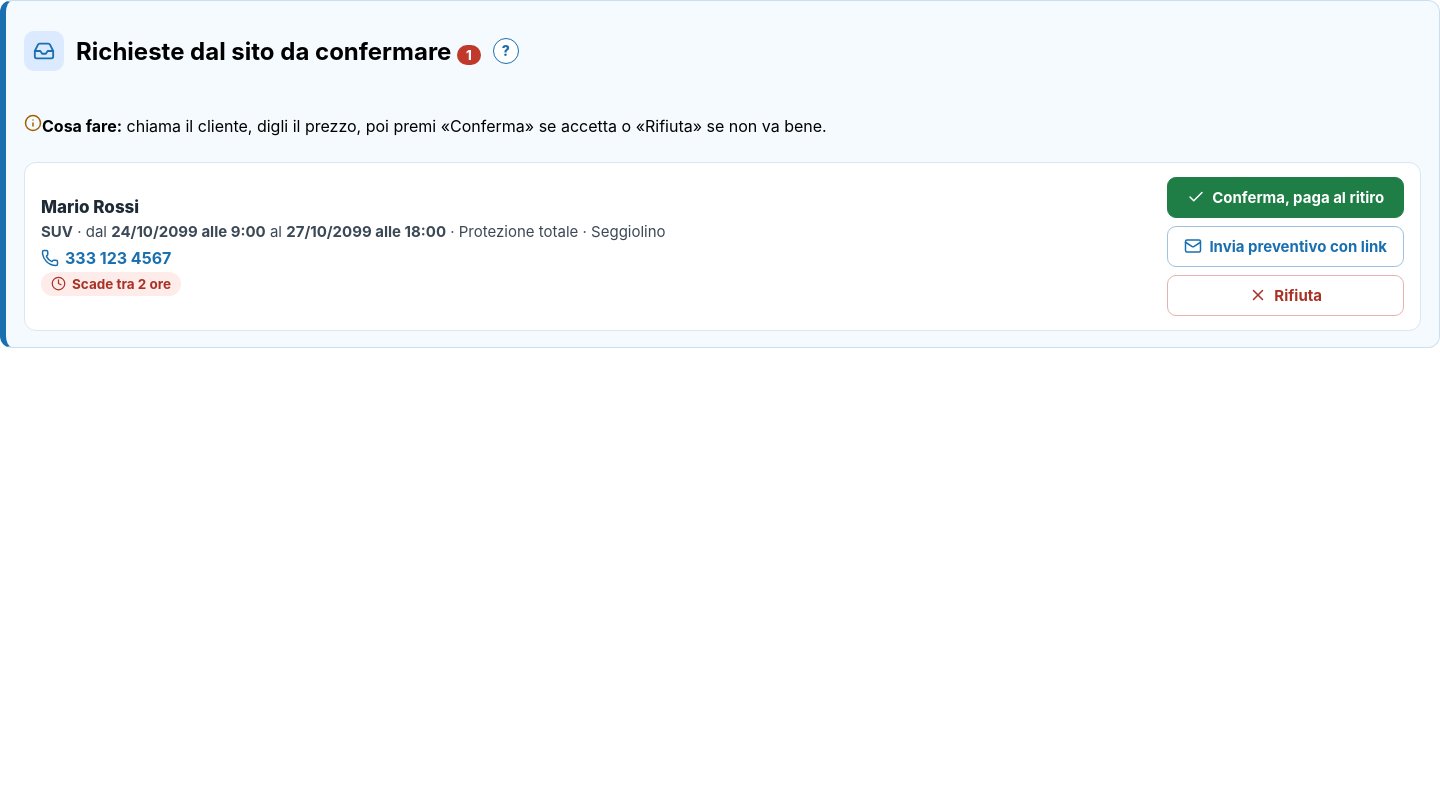
Test: senza un prezzo valido non conferma
The width and height of the screenshot is (1440, 810).
Click the button "Conferma, paga al ritiro".
click(1286, 197)  # box [1167,177,1404,218]
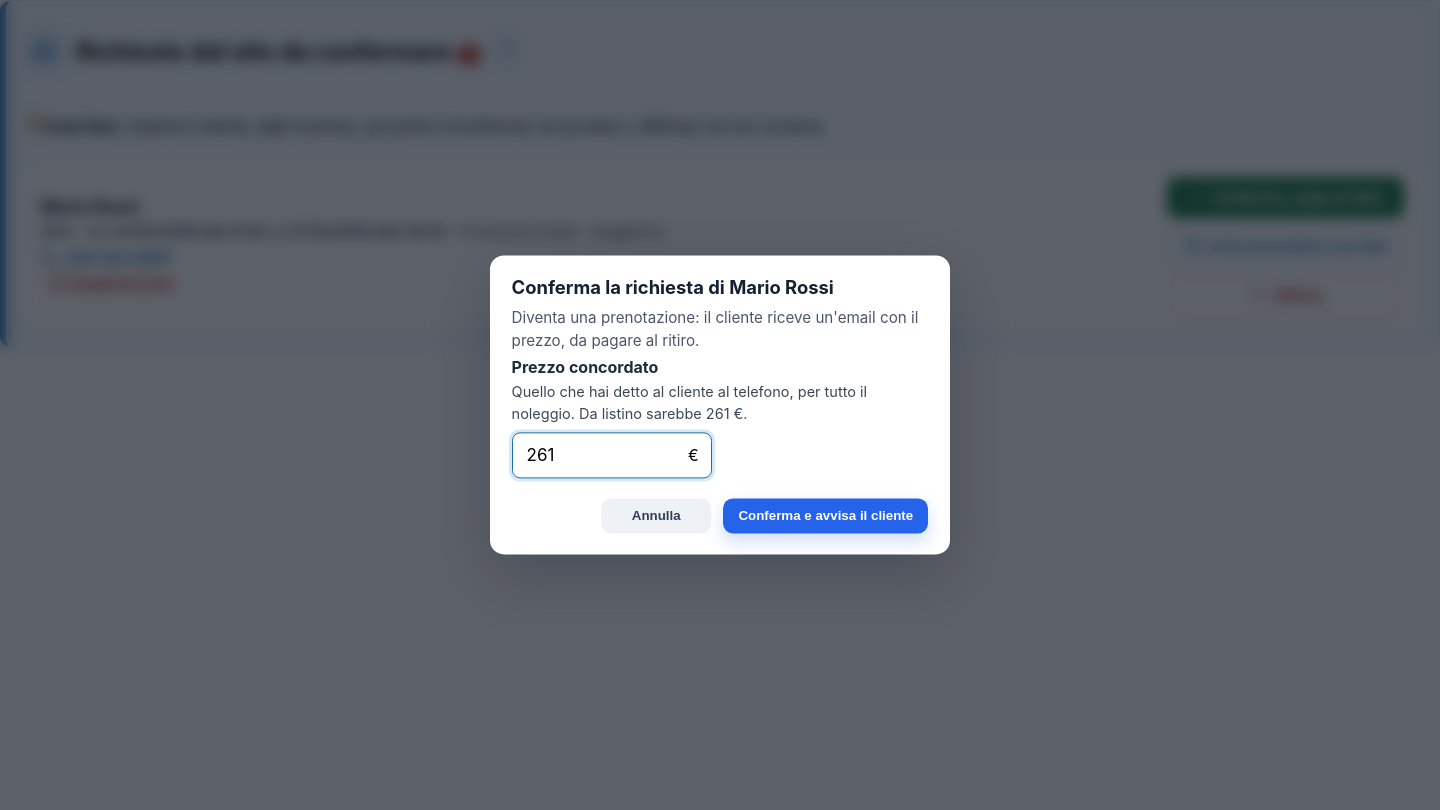
Replace the text in the field labelled "Prezzo concordato" with "boh" at (602, 456), box [525,445,680,467]
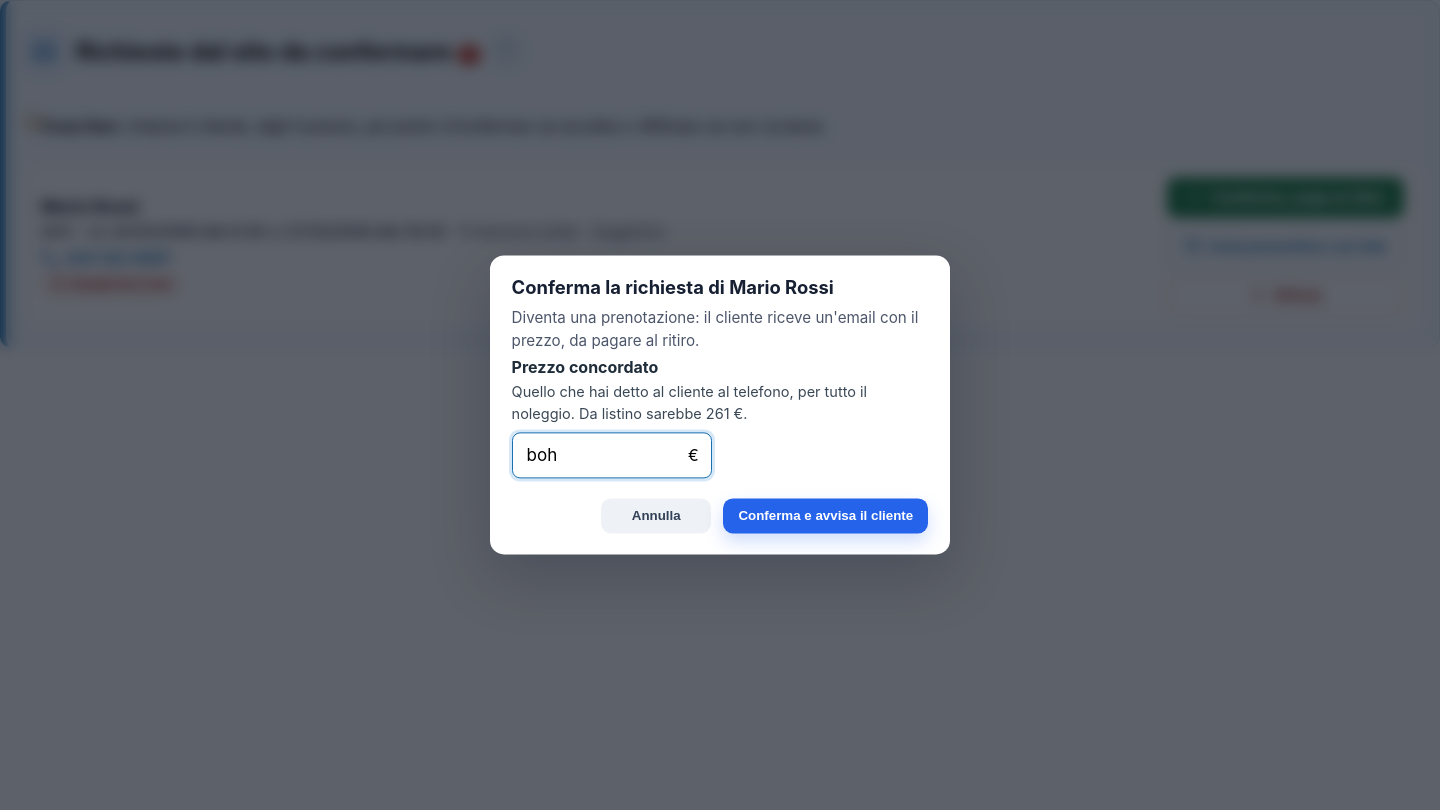
Click the button "Conferma e avvisa il cliente".
click(826, 516)  # box [723,498,928,534]
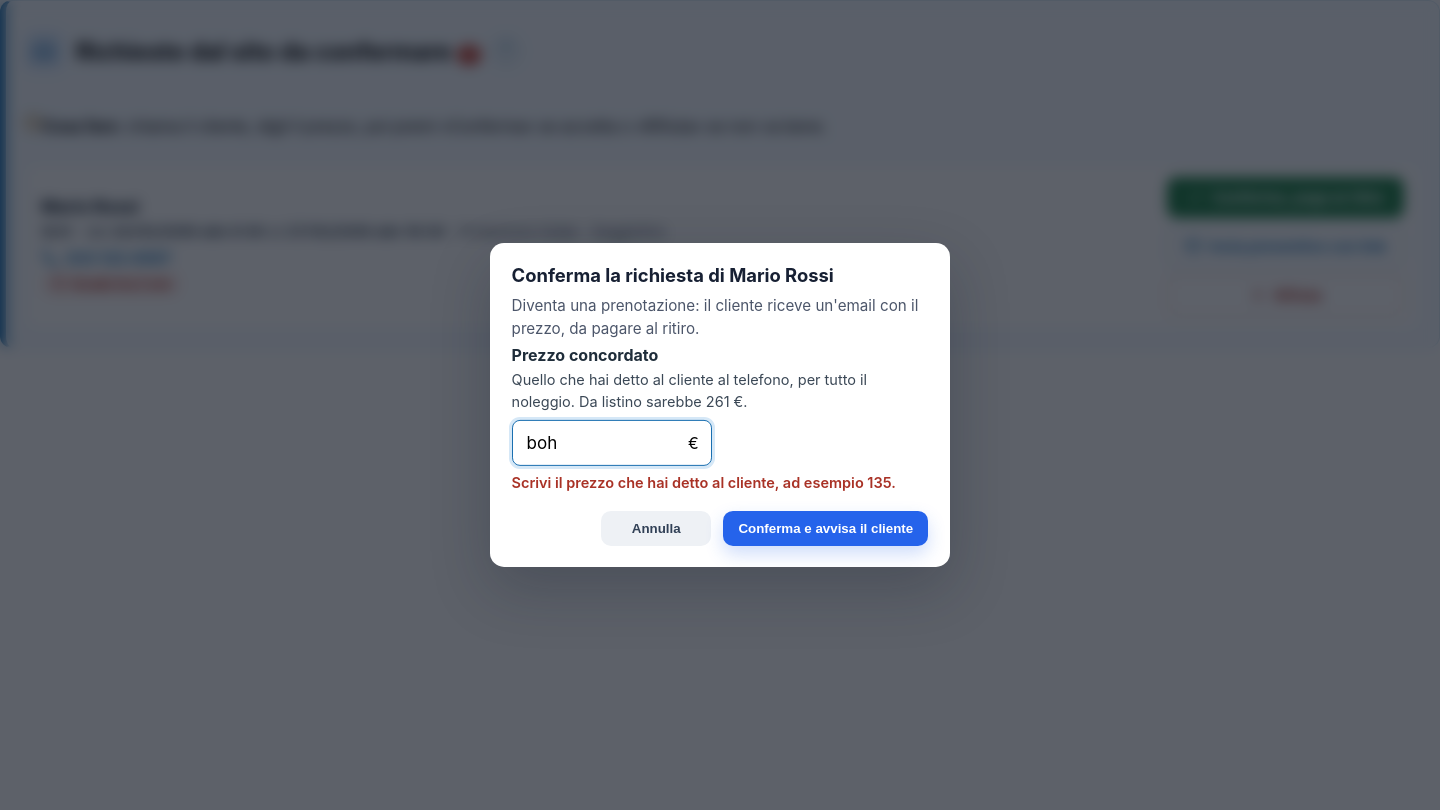
Result: the message shows "Scrivi il prezzo" at [512,474,896,491]
